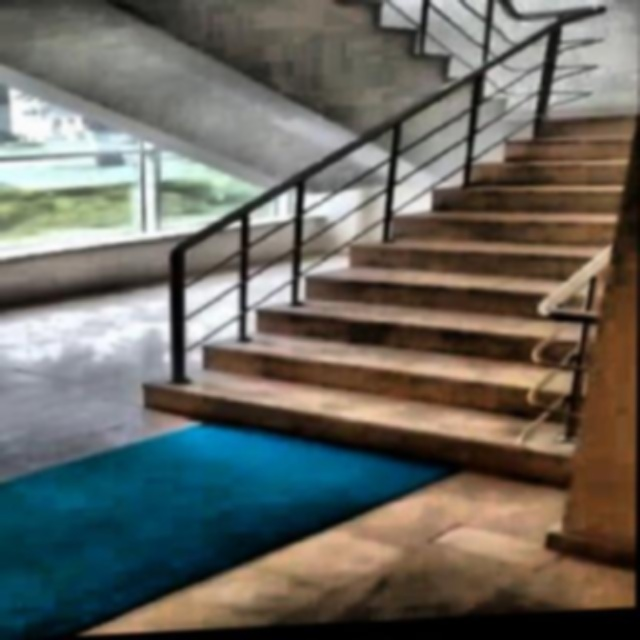stair: (92, 71, 637, 542)
